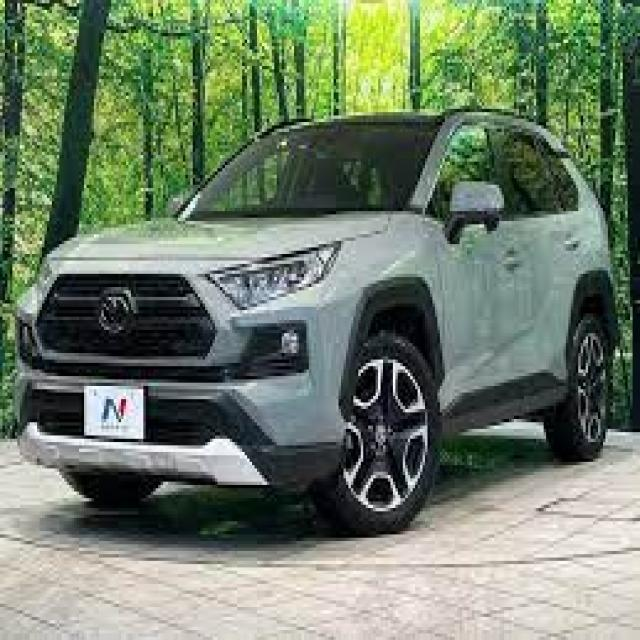light_vehicle: (12, 107, 620, 536)
